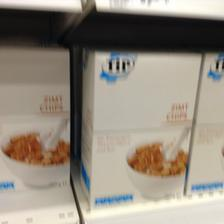Cerealien: (80, 47, 204, 209), (0, 47, 68, 209)
